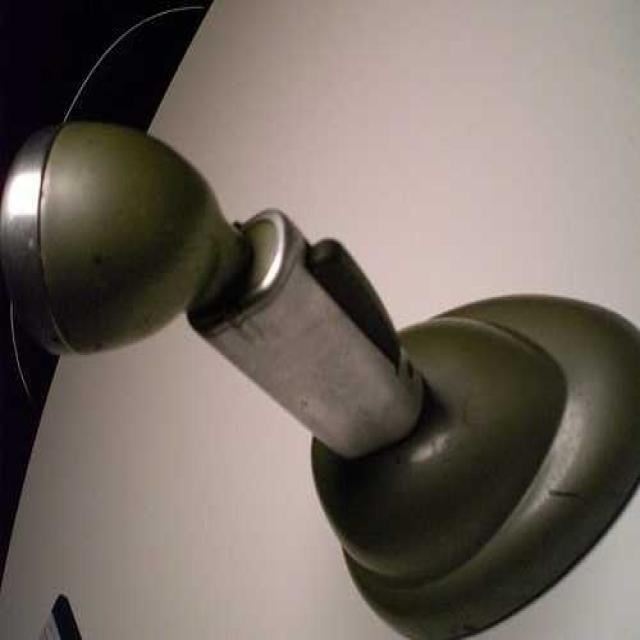microphone: (5, 124, 230, 352)
